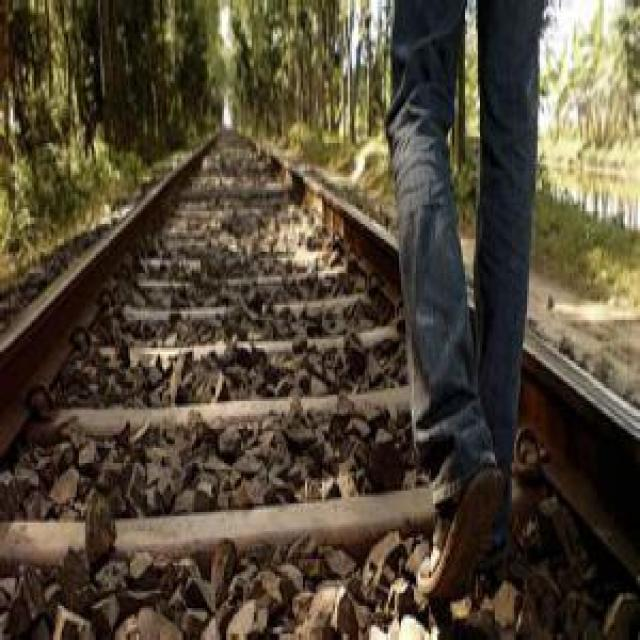rail: (1, 128, 640, 640)
